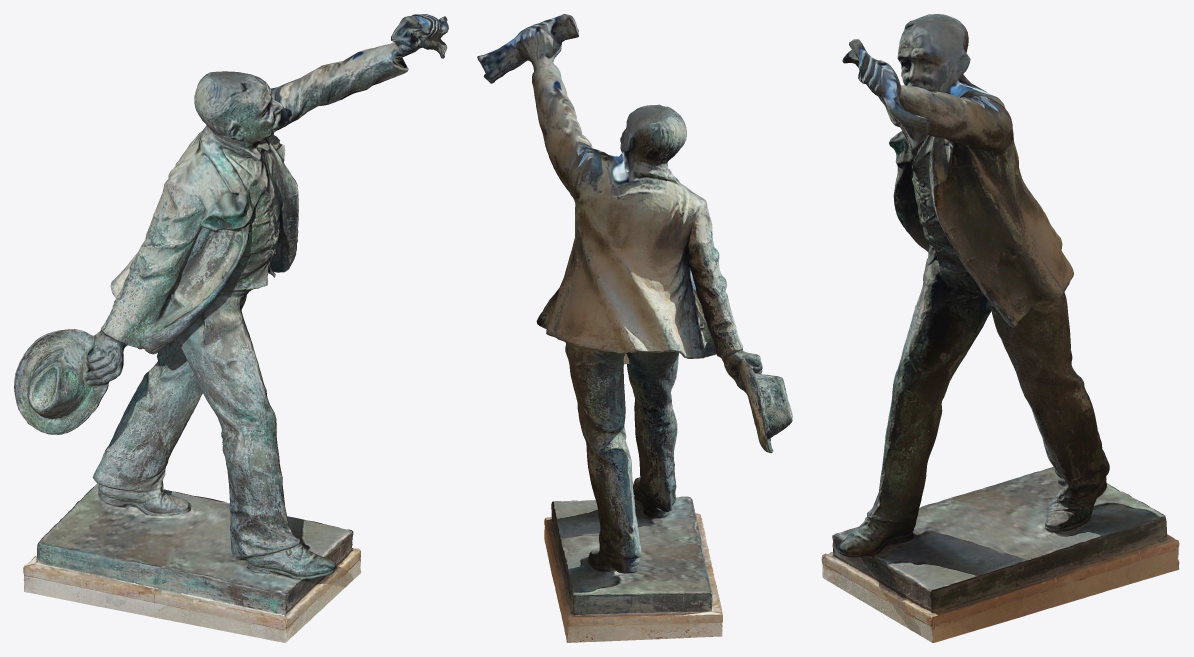
Rendered from 3Ddata.glb.
The picture shows the model from 3 angles, left to right: view 1: azimuth 30°, elevation 25°; view 2: azimuth 150°, elevation 25°; view 3: azimuth 270°, elevation 25°; orthographic projection. The views are drawn at different scales.
Parts seen in each view (by area): view 1: a6d272cb-7bc9-4b16-9ed9-d95493352099; view 2: a6d272cb-7bc9-4b16-9ed9-d95493352099; view 3: a6d272cb-7bc9-4b16-9ed9-d95493352099.
Part boxes in pixels (x1=…): a6d272cb-7bc9-4b16-9ed9-d95493352099: x1=14, y1=14, x2=448, y2=642; a6d272cb-7bc9-4b16-9ed9-d95493352099: x1=477, y1=14, x2=792, y2=642; a6d272cb-7bc9-4b16-9ed9-d95493352099: x1=821, y1=14, x2=1179, y2=642.
Size of the model in its own units: 0.7137 by 1.01 by 0.5399.
1 material, 1 textured.
